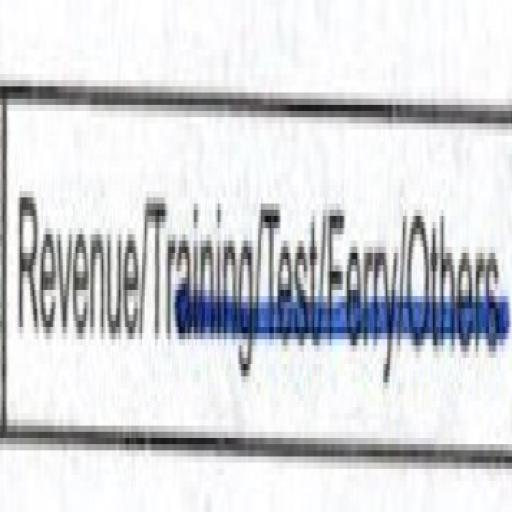check: (5, 19, 141, 512)
